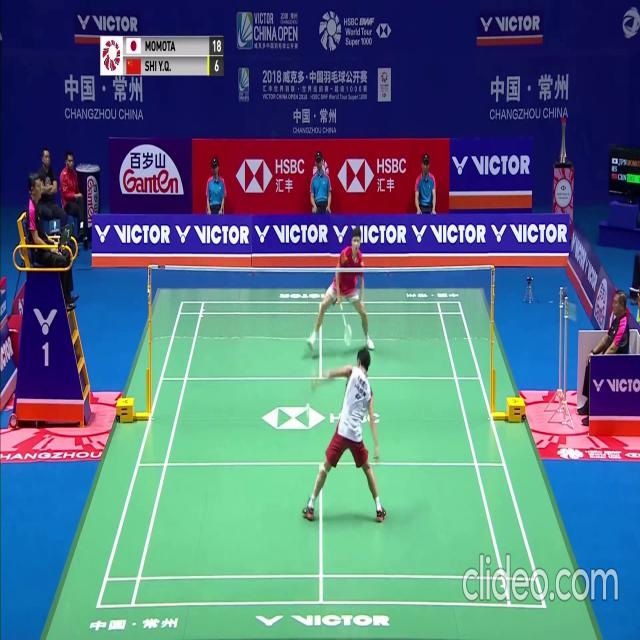Shuttlecock: (304, 402, 309, 409)
